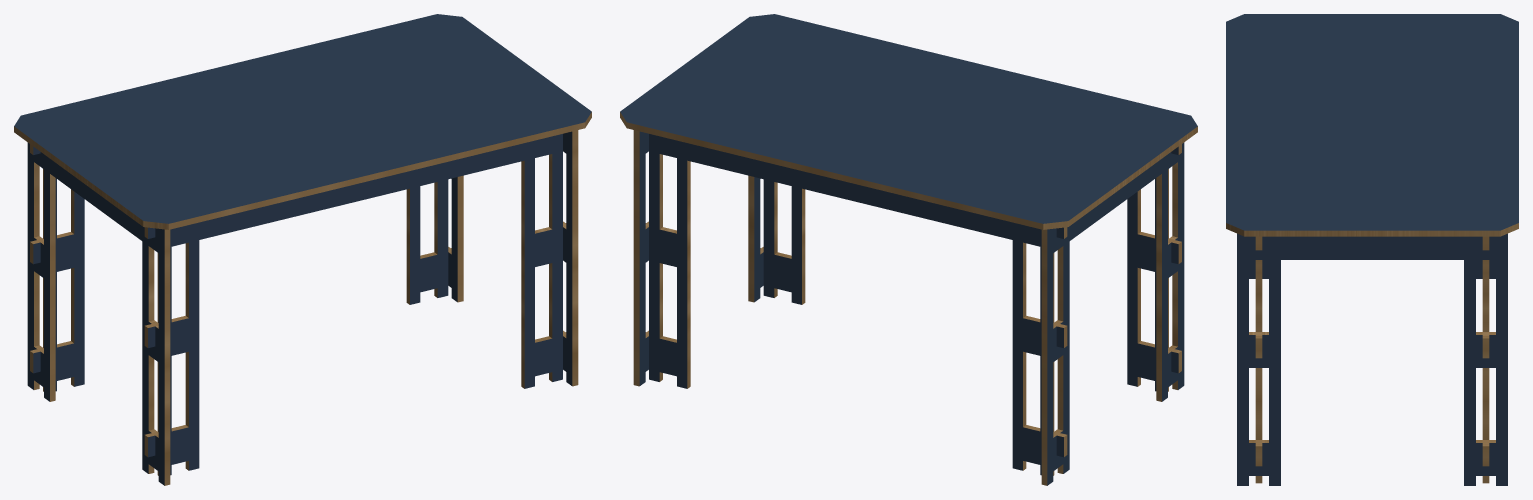
Rendered from NODO_MESA_COMEDOR_PORTICO_CUARZO_UV_LIMPIO_V2.glb.
The picture shows the model from 3 angles, left to right: view 1: azimuth 30°, elevation 25°; view 2: azimuth 150°, elevation 25°; view 3: azimuth 270°, elevation 25°; orthographic projection.
Visible parts, largest first — view 1: top_faces_8, long_faces_4, short_faces_2, long_faces_6, short_edge_3, top_edge_9, long_edge_5, short_faces_0, short_edge_1, long_edge_7; view 2: top_faces_8, long_faces_6, short_faces_2, long_faces_4, short_edge_3, top_edge_9, long_edge_7, short_faces_0, short_edge_1, long_edge_5; view 3: top_faces_8, short_faces_0, top_edge_9, long_edge_5, long_edge_7, short_faces_2.
Boxes of the visible parts, x1,y1,x2,y2 form: top_faces_8: (14,14,591,223); long_faces_4: (148,134,562,475); short_faces_2: (27,142,164,485); long_faces_6: (33,146,448,391); short_edge_3: (34,162,170,485); top_edge_9: (14,112,591,229); long_edge_5: (144,154,566,475); short_faces_0: (448,131,572,385); short_edge_1: (448,130,578,386); long_edge_7: (30,144,451,391); top_faces_8: (620,14,1197,223); long_faces_6: (649,134,1063,475); short_faces_2: (1047,142,1184,485); long_faces_4: (763,146,1178,391); short_edge_3: (1041,162,1177,485); top_edge_9: (620,112,1197,229); long_edge_7: (645,154,1067,475); short_faces_0: (639,131,763,385); short_edge_1: (633,130,763,386); long_edge_5: (760,144,1181,391); top_faces_8: (1226,14,1518,230); short_faces_0: (1237,233,1507,485); top_edge_9: (1226,223,1518,236); long_edge_5: (1255,236,1262,483); long_edge_7: (1482,236,1489,483); short_faces_2: (1249,260,1495,278).
Size of the model in its own units: 1.4 by 0.795 by 0.8.
Materials: 2 (2 with a texture image).
